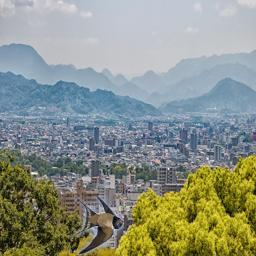Swallow: (69, 195, 124, 255)
